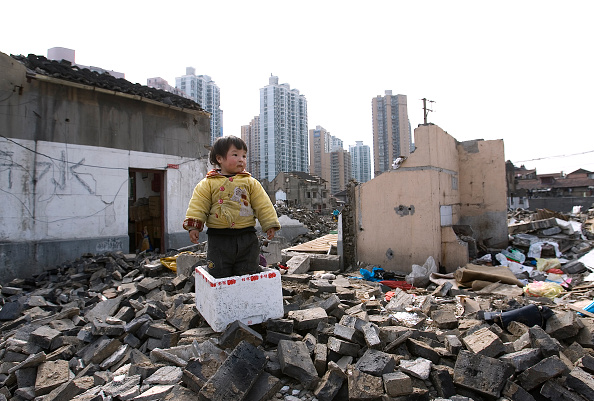em pe: (181, 132, 280, 277)
